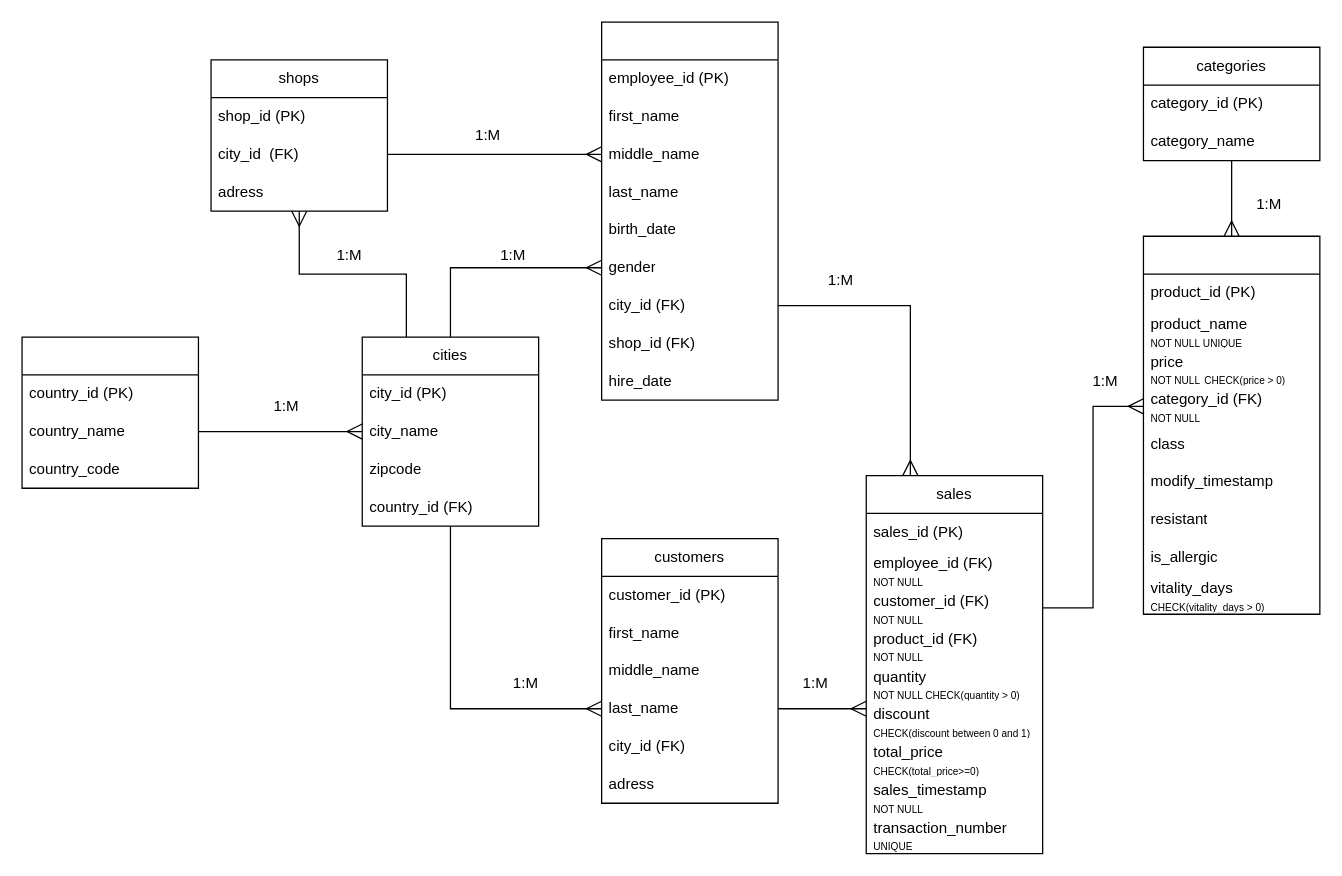
Some shapes in this 1342 by 876 pixel diagram are drawn without their labels. Here are the shapes that lost their labels. From the top down, the box of each, then its label:
(600, 21, 778, 400): employees
(21, 336, 198, 488): countries
(1142, 235, 1320, 614): products
